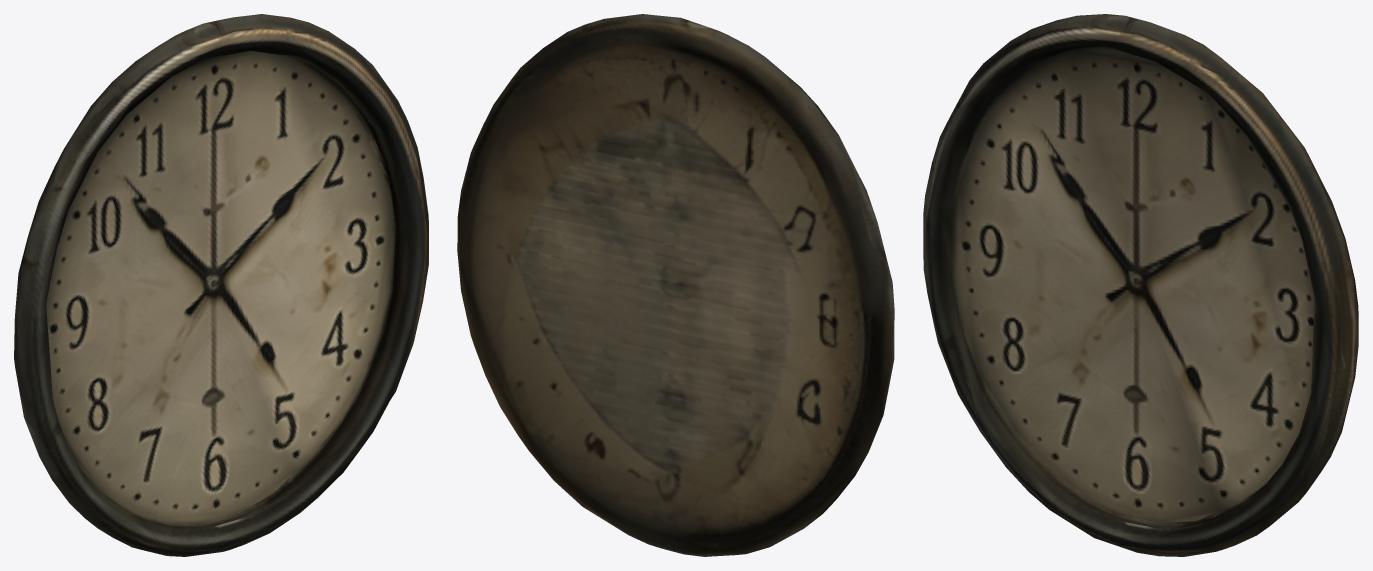
The model's file is clock.fbx.
3 views of the same model, side by side, from view 1: azimuth 30°, elevation 25°; view 2: azimuth 150°, elevation 25°; view 3: azimuth 330°, elevation 25° (orthographic).
Visible parts, largest first — view 1: clock; view 2: clock; view 3: clock.
Part boxes in pixels (x1,y1,x2,y2): clock: [14, 14, 428, 556]; clock: [457, 14, 894, 556]; clock: [923, 14, 1358, 556].
Size of the model in its own units: 186 by 223 by 19.18.
1 material, 1 textured.
